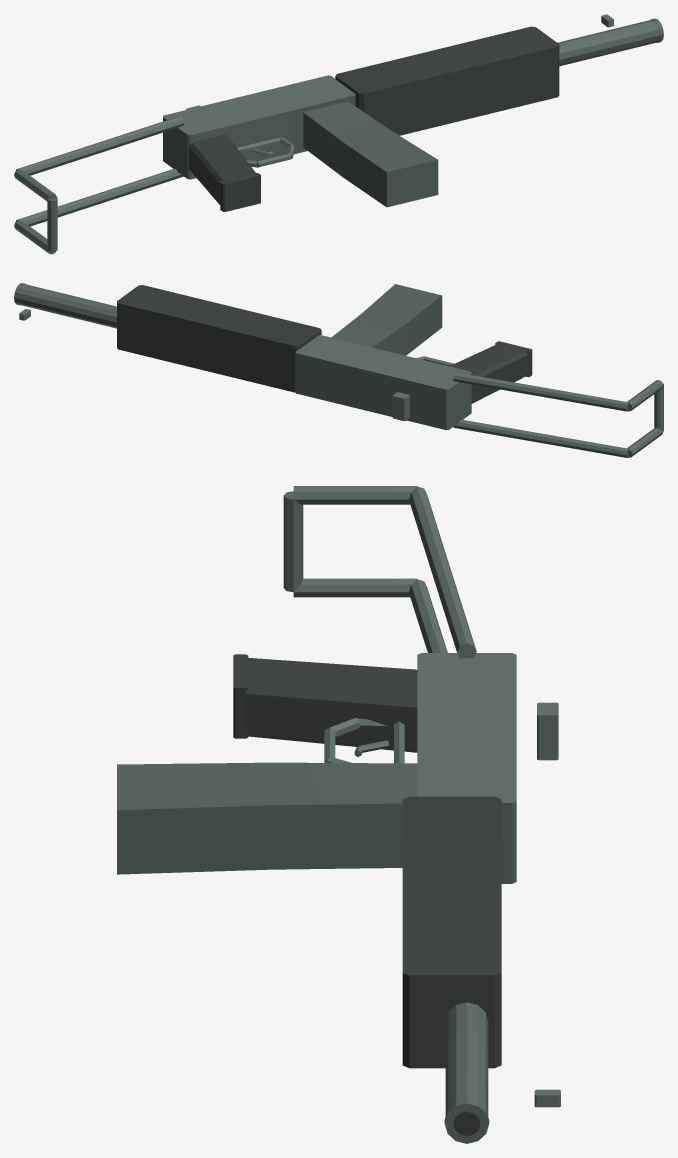
The model's file is weapon-mp40.glb.
The picture shows the model from 3 angles, top to bottom: view 1: azimuth 30°, elevation 25°; view 2: azimuth 150°, elevation 25°; view 3: azimuth 270°, elevation 25°; orthographic projection. The views are drawn at different scales.
Visible parts, largest first — view 1: weapon-mp40/independent-forehandguard, weapon-mp40/distinct-detachable-magazine, weapon-mp40/full-depth-receiver, weapon-mp40/distinct-eight-sided-pistol-grip, weapon-mp40/round-barrel, weapon-mp40/folding-stock-rail--1-1, weapon-mp40/folding-stock-rail-1-1, weapon-mp40/distinct-eight-sided-pistol-grip-heel, weapon-mp40/folding-butt-bridge-1, weapon-mp40/folding-stock-rail--1-2, weapon-mp40/folding-stock-rail-1-2; view 2: weapon-mp40/independent-forehandguard, weapon-mp40/full-depth-receiver, weapon-mp40/distinct-detachable-magazine, weapon-mp40/distinct-eight-sided-pistol-grip, weapon-mp40/round-barrel, weapon-mp40/folding-stock-rail--1-1, weapon-mp40/folding-stock-rail-1-1, weapon-mp40/rear-sight, weapon-mp40/folding-stock-rail--1-2, weapon-mp40/folding-stock-rail-1-2, weapon-mp40/folding-butt-bridge-1; view 3: weapon-mp40/distinct-detachable-magazine, weapon-mp40/independent-forehandguard, weapon-mp40/full-depth-receiver, weapon-mp40/distinct-eight-sided-pistol-grip, weapon-mp40/round-barrel, weapon-mp40/folding-stock-rail--1-1, weapon-mp40/folding-stock-rail-1-2, weapon-mp40/folding-stock-rail--1-2, weapon-mp40/folding-butt-bridge-1, weapon-mp40/folding-stock-rail-1-1, weapon-mp40/rear-sight, weapon-mp40/round-barrel-end-rim (+1 smaller).
Boxes of the visible parts, left/top/right/bottom form: weapon-mp40/independent-forehandguard: left=335, top=26, right=559, bottom=135; weapon-mp40/distinct-detachable-magazine: left=303, top=101, right=438, bottom=207; weapon-mp40/full-depth-receiver: left=163, top=75, right=355, bottom=179; weapon-mp40/distinct-eight-sided-pistol-grip: left=188, top=134, right=255, bottom=204; weapon-mp40/round-barrel: left=557, top=20, right=659, bottom=66; weapon-mp40/folding-stock-rail--1-1: left=16, top=116, right=184, bottom=175; weapon-mp40/folding-stock-rail-1-1: left=16, top=169, right=183, bottom=226; weapon-mp40/distinct-eight-sided-pistol-grip-heel: left=220, top=173, right=260, bottom=211; weapon-mp40/folding-butt-bridge-1: left=47, top=198, right=57, bottom=251; weapon-mp40/folding-stock-rail--1-2: left=14, top=169, right=56, bottom=201; weapon-mp40/folding-stock-rail-1-2: left=14, top=220, right=56, bottom=254; weapon-mp40/independent-forehandguard: left=117, top=285, right=321, bottom=392; weapon-mp40/full-depth-receiver: left=295, top=335, right=471, bottom=430; weapon-mp40/distinct-detachable-magazine: left=331, top=284, right=442, bottom=355; weapon-mp40/distinct-eight-sided-pistol-grip: left=449, top=343, right=528, bottom=403; weapon-mp40/round-barrel: left=17, top=284, right=116, bottom=328; weapon-mp40/folding-stock-rail--1-1: left=453, top=372, right=628, bottom=411; weapon-mp40/folding-stock-rail-1-1: left=453, top=419, right=628, bottom=457; weapon-mp40/rear-sight: left=392, top=392, right=409, bottom=421; weapon-mp40/folding-stock-rail--1-2: left=627, top=380, right=663, bottom=411; weapon-mp40/folding-stock-rail-1-2: left=627, top=428, right=663, bottom=457; weapon-mp40/folding-butt-bridge-1: left=654, top=383, right=663, bottom=431; weapon-mp40/distinct-detachable-magazine: left=117, top=762, right=417, bottom=874; weapon-mp40/independent-forehandguard: left=402, top=796, right=501, bottom=1068; weapon-mp40/full-depth-receiver: left=417, top=653, right=516, bottom=883; weapon-mp40/distinct-eight-sided-pistol-grip: left=240, top=657, right=417, bottom=752; weapon-mp40/round-barrel: left=445, top=1002, right=488, bottom=1115; weapon-mp40/folding-stock-rail--1-1: left=409, top=486, right=476, bottom=658; weapon-mp40/folding-stock-rail-1-2: left=293, top=578, right=416, bottom=597; weapon-mp40/folding-stock-rail--1-2: left=293, top=486, right=417, bottom=504; weapon-mp40/folding-butt-bridge-1: left=283, top=491, right=303, bottom=592; weapon-mp40/folding-stock-rail-1-1: left=408, top=579, right=447, bottom=652; weapon-mp40/rear-sight: left=537, top=702, right=558, bottom=760; weapon-mp40/round-barrel-end-rim: left=444, top=1100, right=489, bottom=1143.
Size of the model in its own units: 0.8405 by 0.074 by 0.269.
Materials: 2 (2 with a texture image).
